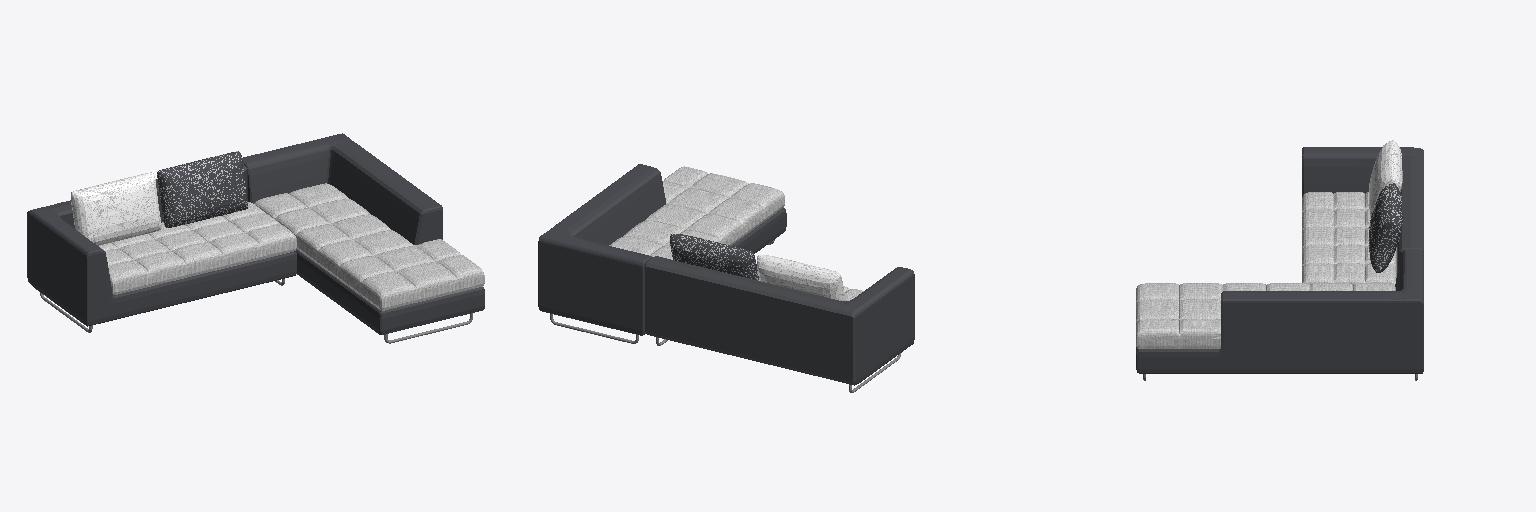
The picture shows the model from 3 angles: view 1: azimuth 30°, elevation 25°; view 2: azimuth 150°, elevation 25°; view 3: azimuth 270°, elevation 25°; orthographic projection.
Visible parts, largest first — view 1: Mesh16 Group4 Componente_2_1 Model, Mesh14 Group3 Componente_2_1 Model, Mesh15 Group4 Componente_2_1 Model, Mesh13 Group2 Componente_2_1 Model, Mesh22 Grupo_2_2 Componente_2_1 Model, Mesh17 Grupo_2_1 Componente_2_1 Model; view 2: Mesh15 Group4 Componente_2_1 Model, Mesh16 Group4 Componente_2_1 Model, Mesh14 Group3 Componente_2_1 Model, Mesh22 Grupo_2_2 Componente_2_1 Model, Mesh17 Grupo_2_1 Componente_2_1 Model; view 3: Mesh16 Group4 Componente_2_1 Model, Mesh14 Group3 Componente_2_1 Model, Mesh13 Group2 Componente_2_1 Model, Mesh15 Group4 Componente_2_1 Model, Mesh22 Grupo_2_2 Componente_2_1 Model, Mesh17 Grupo_2_1 Componente_2_1 Model.
Part boxes in pixels (left/top/right/bottom): Mesh16 Group4 Componente_2_1 Model: left=242, top=133, right=484, bottom=334; Mesh14 Group3 Componente_2_1 Model: left=254, top=183, right=484, bottom=310; Mesh15 Group4 Componente_2_1 Model: left=27, top=163, right=296, bottom=326; Mesh13 Group2 Componente_2_1 Model: left=99, top=202, right=296, bottom=294; Mesh22 Grupo_2_2 Componente_2_1 Model: left=157, top=151, right=247, bottom=227; Mesh17 Grupo_2_1 Componente_2_1 Model: left=71, top=172, right=161, bottom=245; Mesh15 Group4 Componente_2_1 Model: left=645, top=256, right=914, bottom=385; Mesh16 Group4 Componente_2_1 Model: left=538, top=164, right=786, bottom=335; Mesh14 Group3 Componente_2_1 Model: left=609, top=166, right=784, bottom=259; Mesh22 Grupo_2_2 Componente_2_1 Model: left=670, top=234, right=758, bottom=280; Mesh17 Grupo_2_1 Componente_2_1 Model: left=757, top=255, right=845, bottom=300; Mesh16 Group4 Componente_2_1 Model: left=1136, top=249, right=1423, bottom=373; Mesh14 Group3 Componente_2_1 Model: left=1136, top=283, right=1395, bottom=348; Mesh13 Group2 Componente_2_1 Model: left=1302, top=192, right=1396, bottom=284; Mesh15 Group4 Componente_2_1 Model: left=1302, top=147, right=1423, bottom=272; Mesh22 Grupo_2_2 Componente_2_1 Model: left=1369, top=183, right=1402, bottom=272; Mesh17 Grupo_2_1 Componente_2_1 Model: left=1369, top=140, right=1402, bottom=218.
Size of the model in its own units: 2.84 by 0.9319 by 2.24.
Materials: 4 (1 with a texture image).